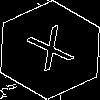X: (25, 25, 81, 81)
